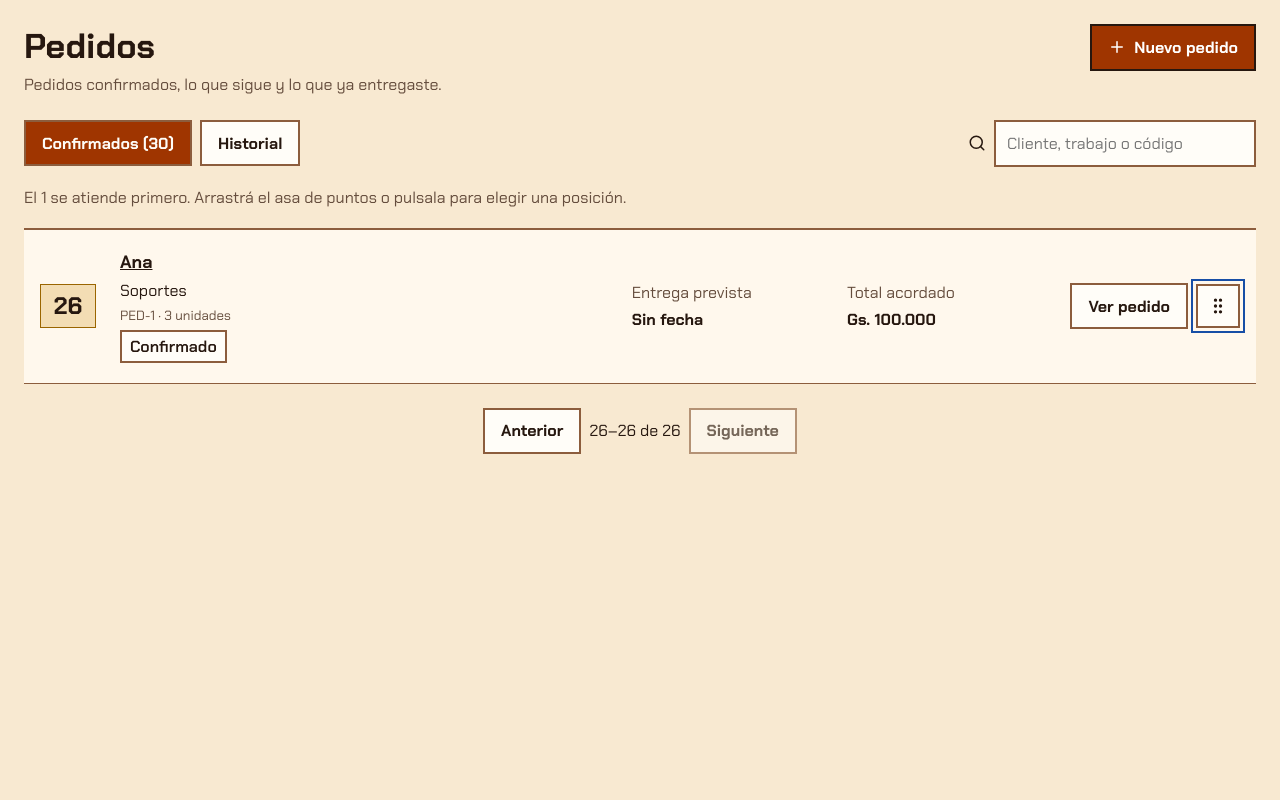
returns focus to the search when a conflict moves the order out of the page
Click the button named "Cambiar prioridad de Ana".
click(1218, 306)  # box [1196,284,1240,328]
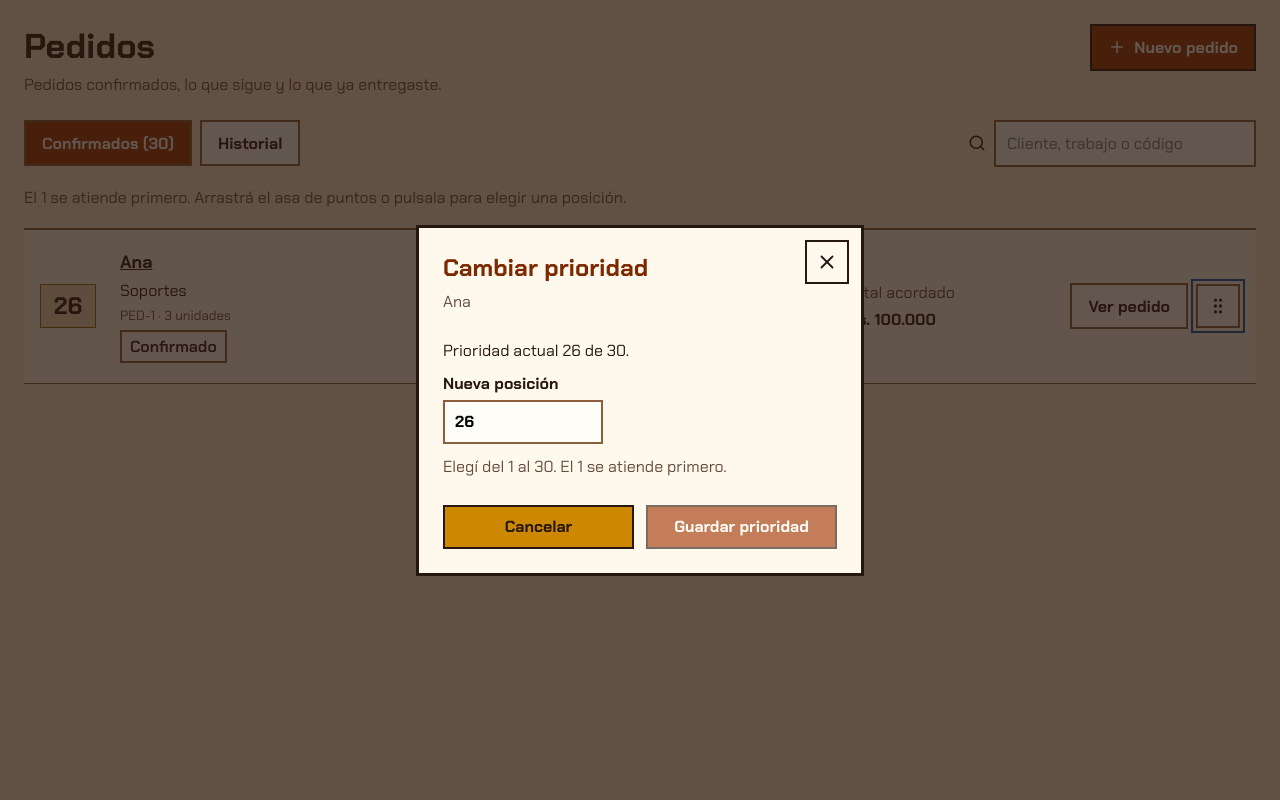
Replace the text in the number field labelled "Nueva posición" with "1" at (523, 422), box [443,400,603,444]
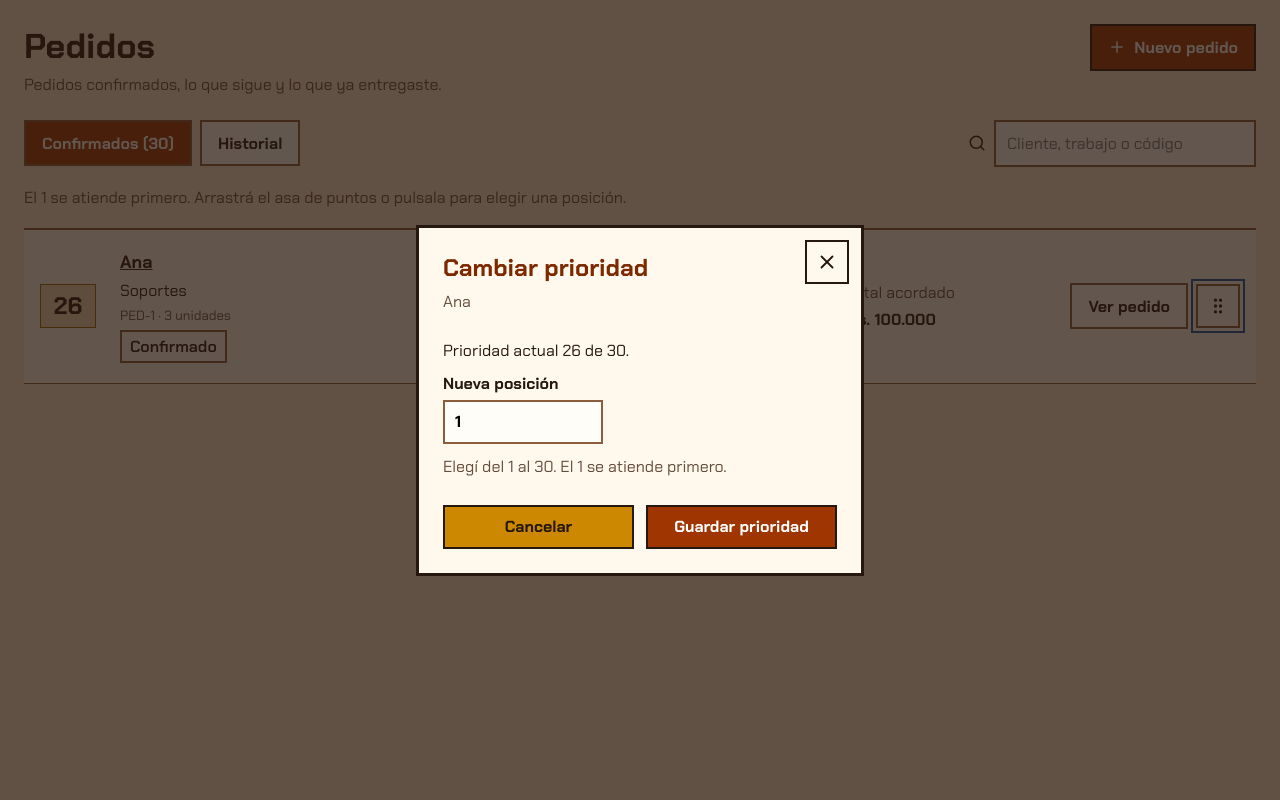
Click the button "Guardar prioridad".
click(742, 526)  # box [646,504,837,548]
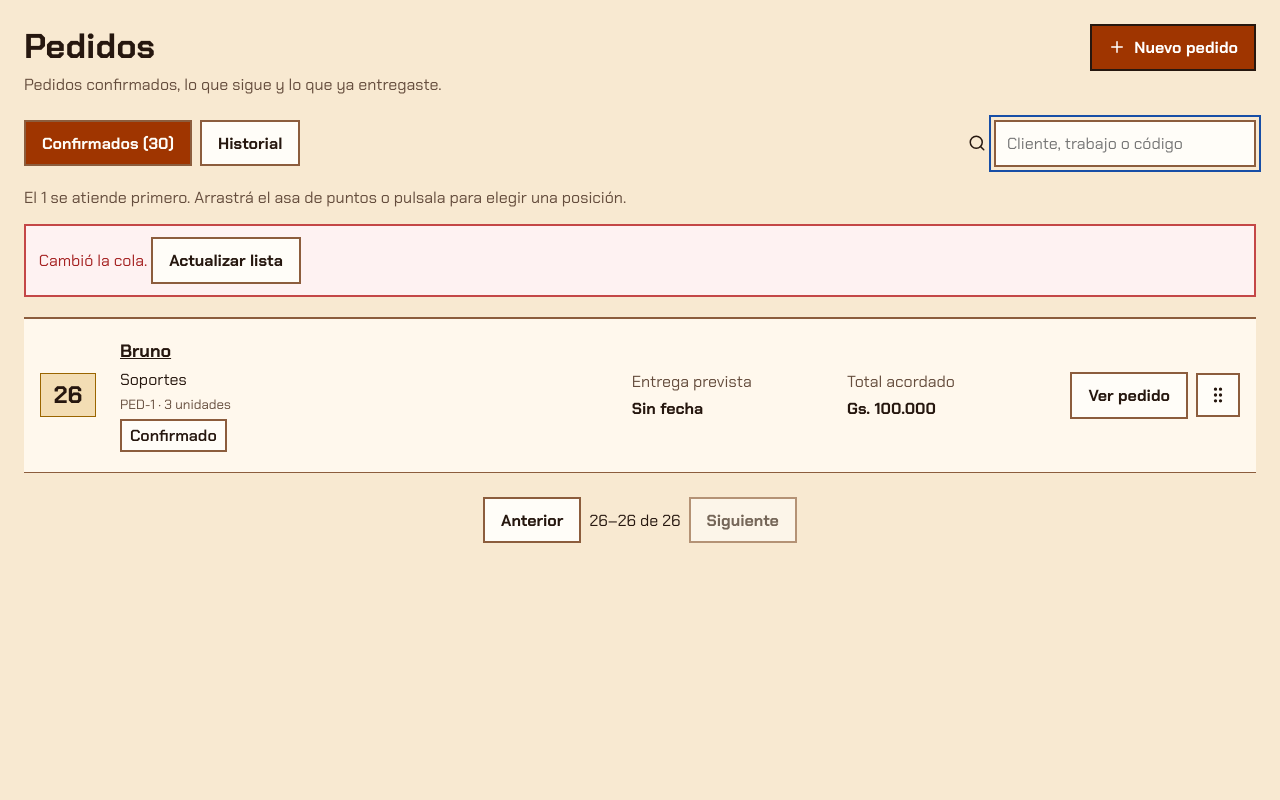
Check: the link "Bruno" is shown, box [120,339,171,363]
Check: the message shows "Cambió la cola.", box [39,250,147,271]
